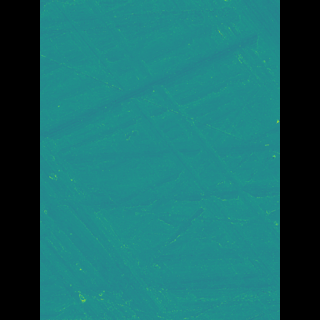Loch: (79, 0, 251, 299), (69, 135, 179, 320)
